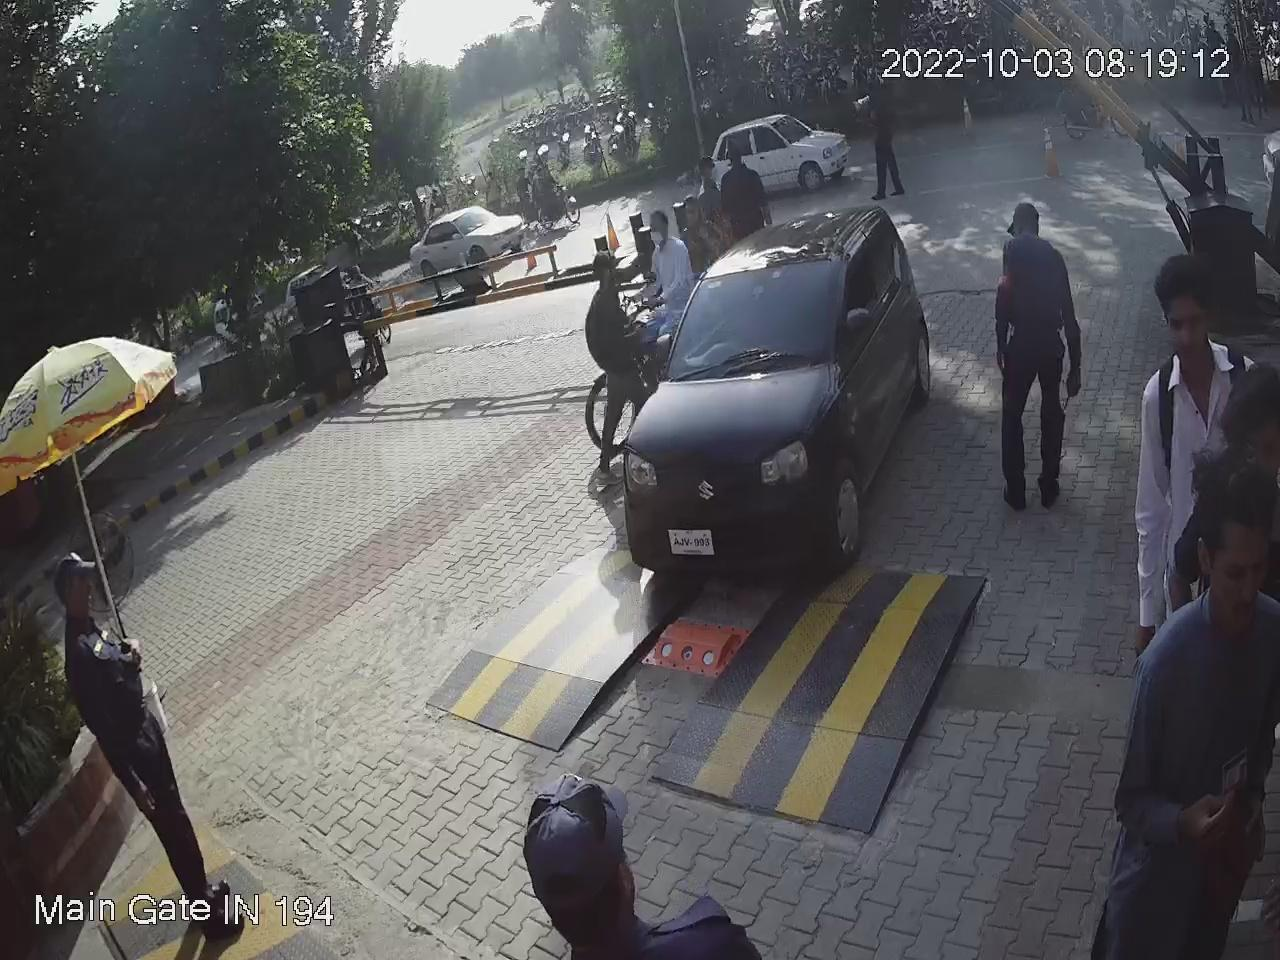windshield: (655, 252, 844, 382)
